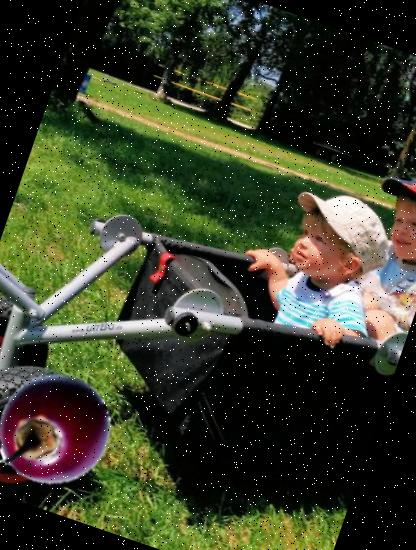Tamarillo: (0, 355, 127, 502)
